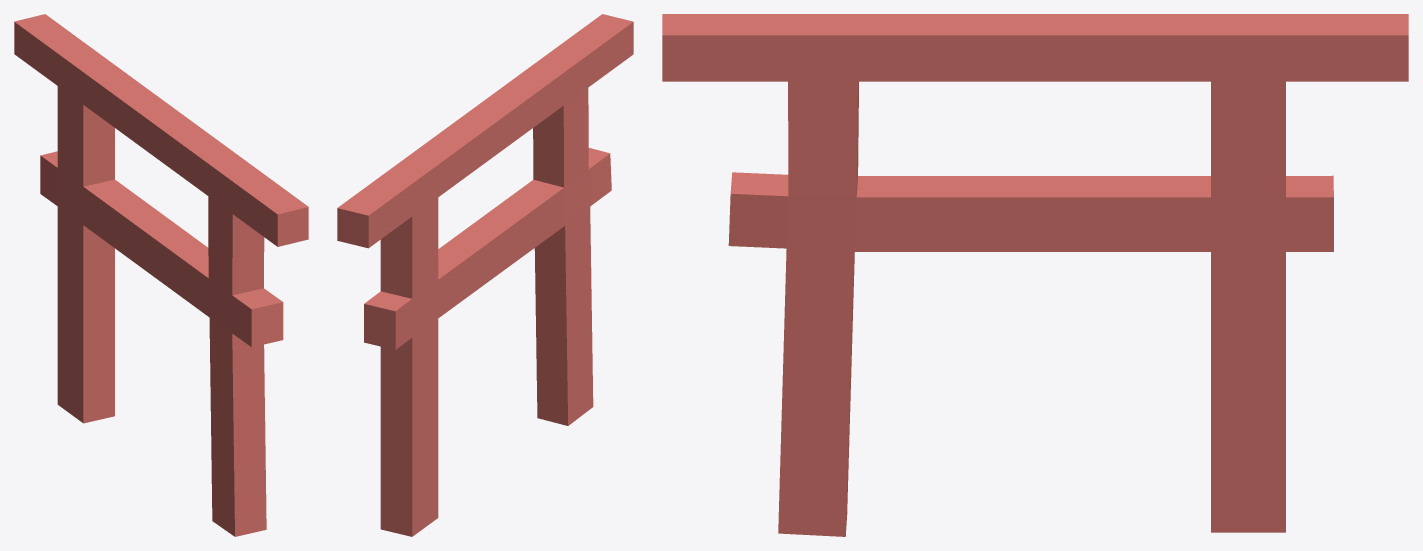
The model's file is gate.glb.
3 renders of one model, left to right at view 1: azimuth 30°, elevation 25°; view 2: azimuth 150°, elevation 25°; view 3: azimuth 270°, elevation 25°, orthographic. The views are drawn at different scales.
Visible parts, largest first — view 1: Cube; view 2: Cube; view 3: Cube.
Boxes of the visible parts, <box> form: Cube: <box>14,14,308,536</box>; Cube: <box>337,14,633,536</box>; Cube: <box>662,14,1408,536</box>.
Size of the model in its own units: 2.14 by 21.78 by 29.37.
